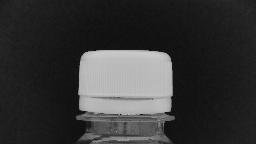Broken Ring: (76, 89, 178, 117)
